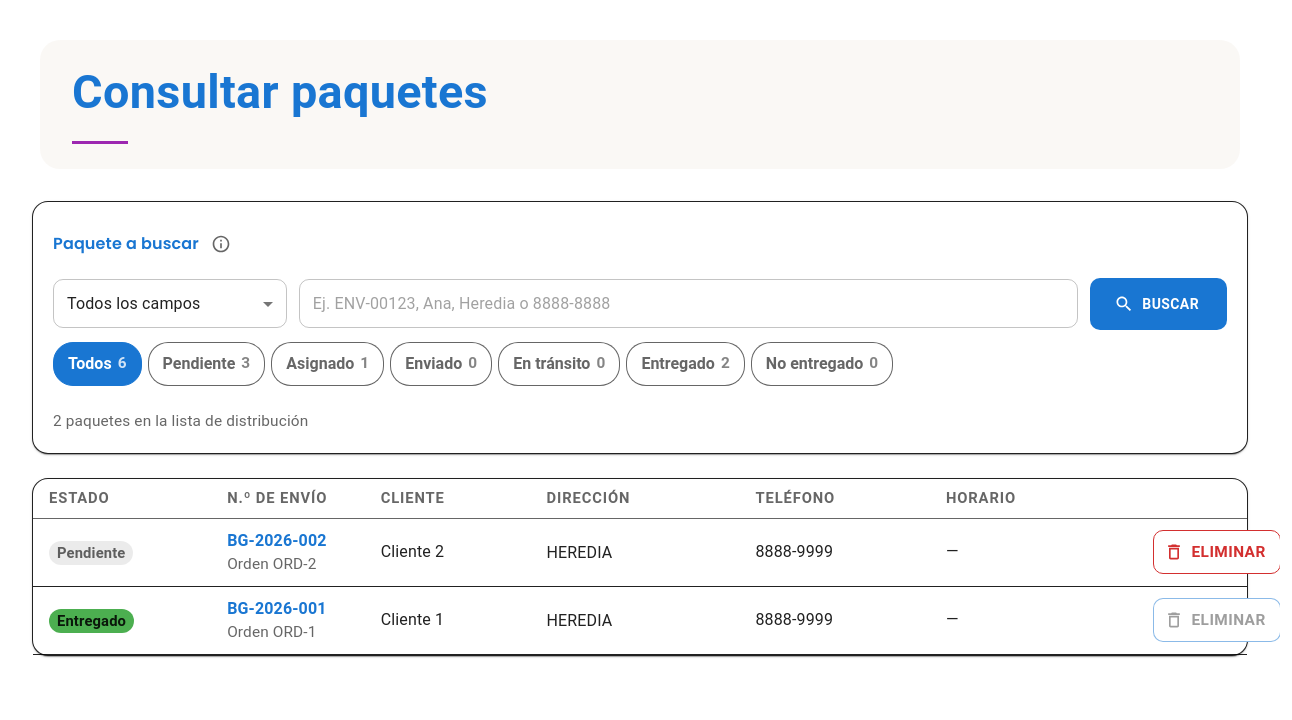
Test: PackageSearchPage › filtro por estado, eliminar y estados vacíos › las pestañas de estado muestran la cantidad de cada estado y filtran al instante sin escribir nada
expect the text with test id "package-status-count-all" reads "6": met, box [118,354,127,372]
expect the text with test id "package-status-count-PENDING" reads "3": met, box [241,354,250,372]
Click the button with test id "package-status-DELIVERED" at (686,364), box [626,342,745,386]
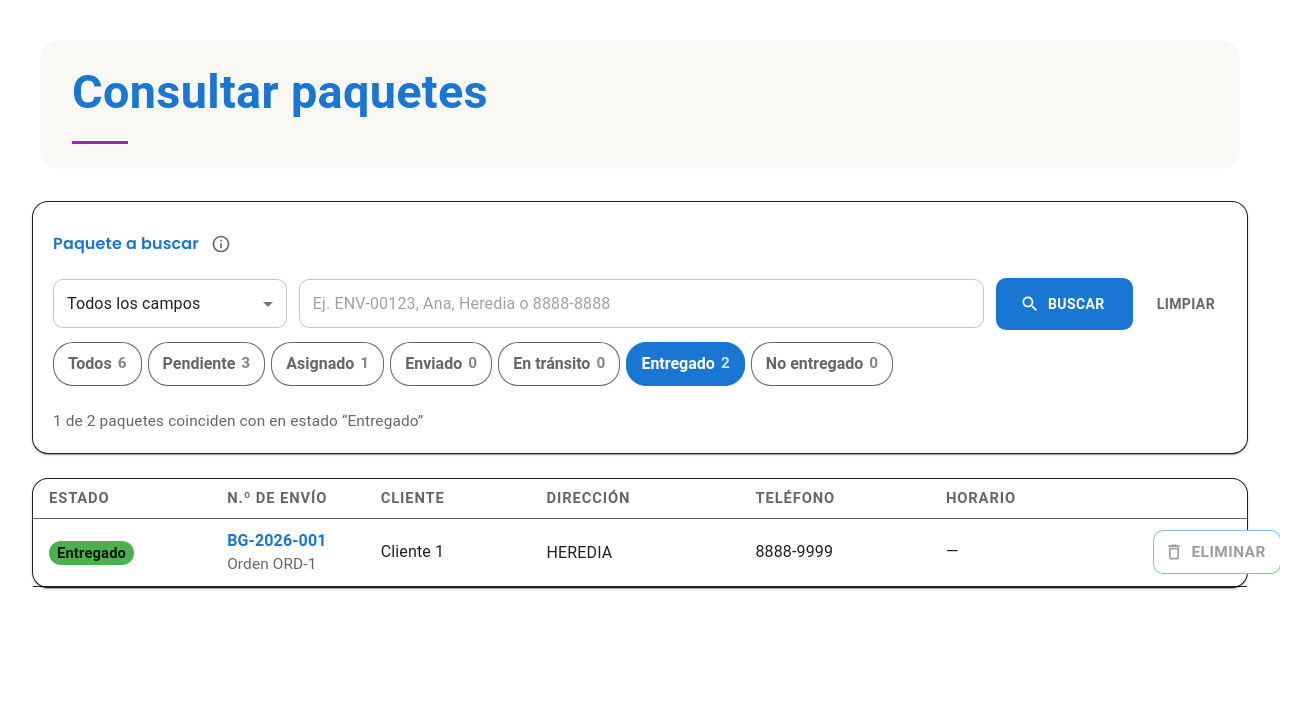
expect the message with test id "package-search-summary" reads "1 de 2 paquetes coinciden con en estado “Entregado”": met, box [53,412,423,430]
expect the link "BG-2026-002" is gone: met
